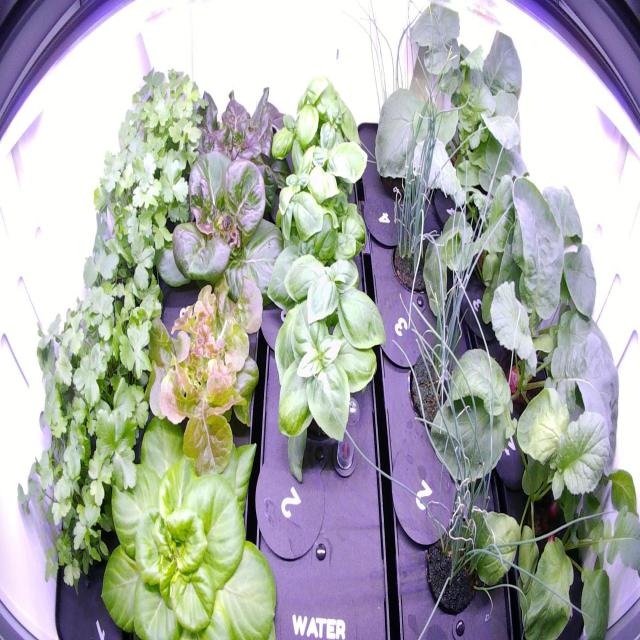young: (88, 378, 292, 640), (144, 135, 299, 321), (170, 77, 298, 218)
